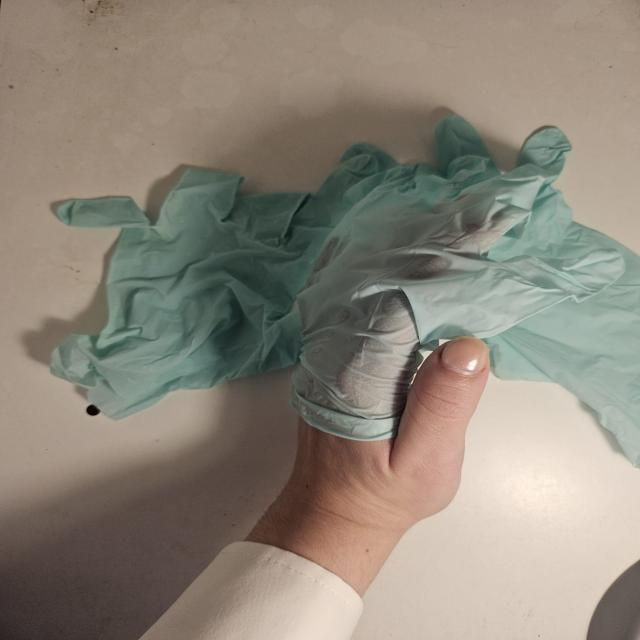glove_partial: (288, 158, 626, 513)
